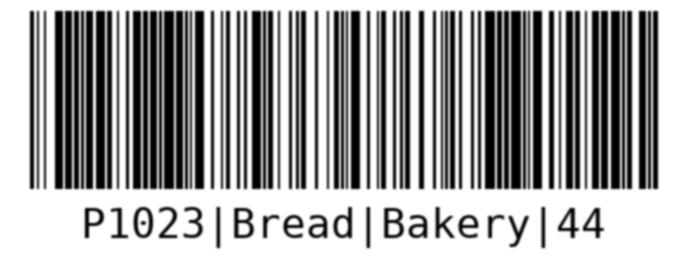milk: (27, 8, 662, 257)
